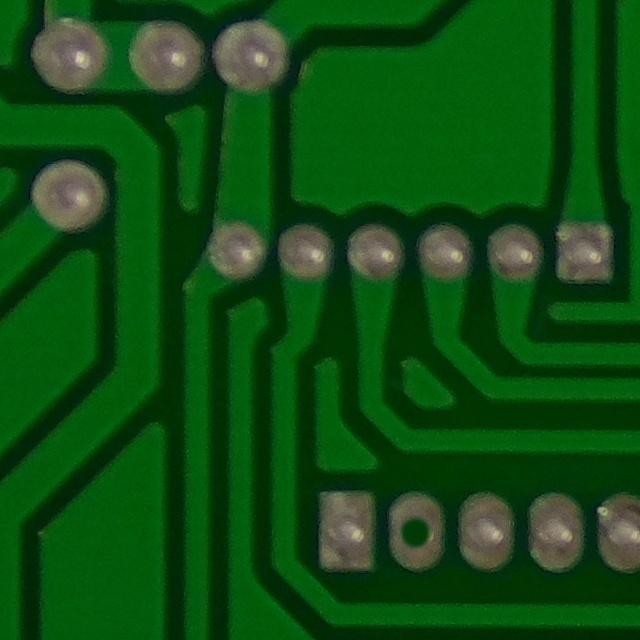missing_hole: (380, 484, 458, 579)
